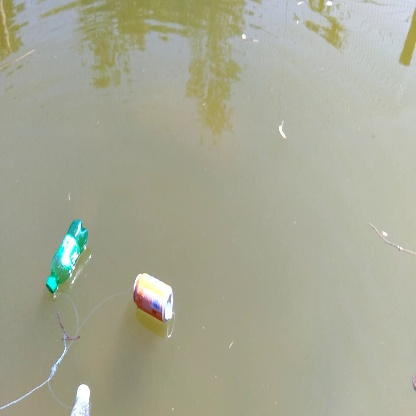bottle: (37, 218, 97, 303), (127, 273, 190, 333)
